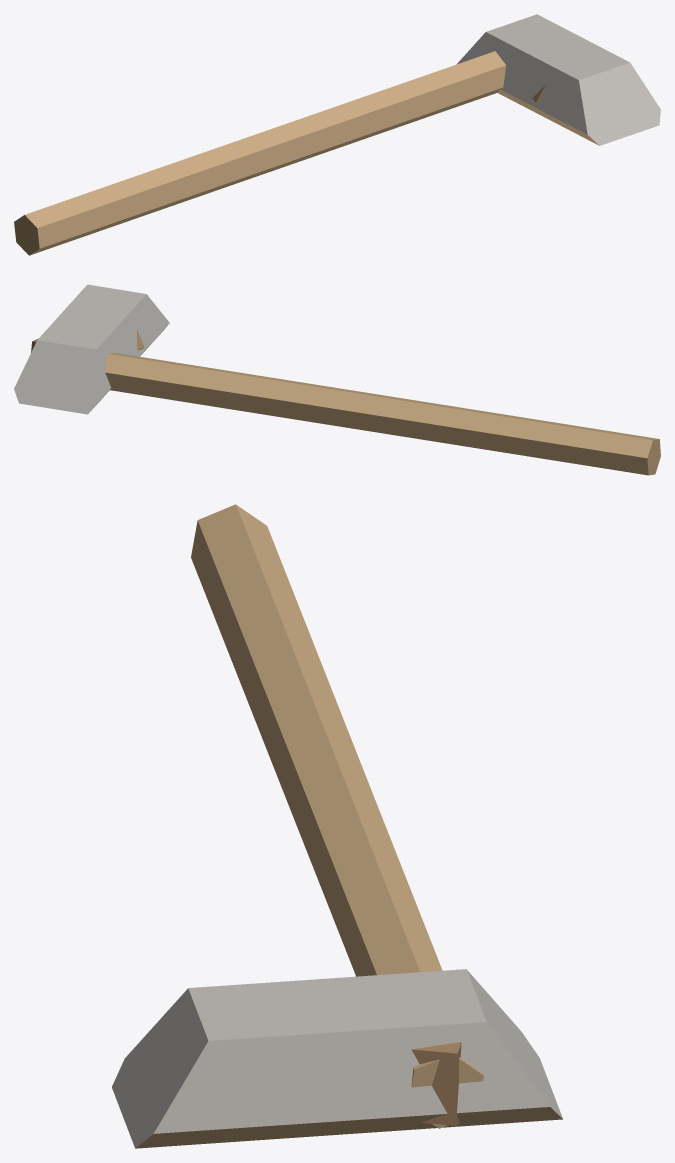
The model's file is tool.glb.
The picture shows the model from 3 angles, top to bottom: view 1: azimuth 30°, elevation 25°; view 2: azimuth 150°, elevation 25°; view 3: azimuth 270°, elevation 25°; orthographic projection. The views are drawn at different scales.
Parts seen in each view (by area): view 1: tool; view 2: tool; view 3: tool.
Part boxes in pixels (box(x1,y1,x2,y2)): tool: box(14, 14, 660, 255); tool: box(14, 284, 660, 475); tool: box(112, 504, 562, 1148).
Size of the model in its own units: 0.6289 by 0.055 by 0.2083.
